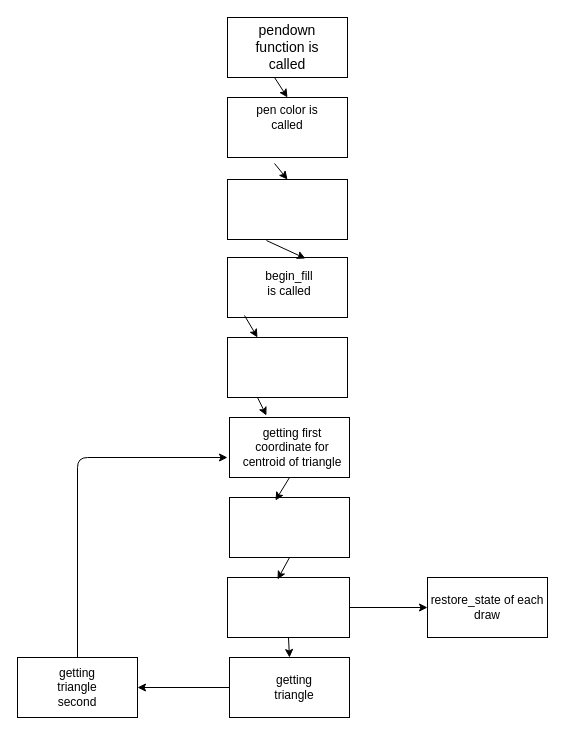
The diagram is 565 pixels wide and 735 high, and some of its shapes have lost their labels. Here are the shapes that lost their labels. From the top down, the box of each, then its label:
(226, 178, 348, 240): fillcolor is called
(226, 336, 348, 398): forward function is called
(228, 496, 350, 558): getting Second coordinate for centroid of triangle
(226, 576, 350, 638): getting Third coordinate for centroid of triangle
